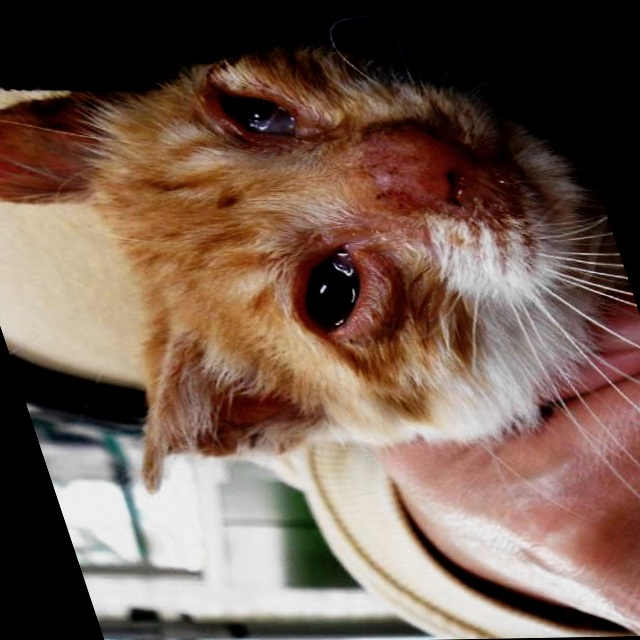eye_infection: (279, 247, 394, 335), (204, 76, 313, 147)
